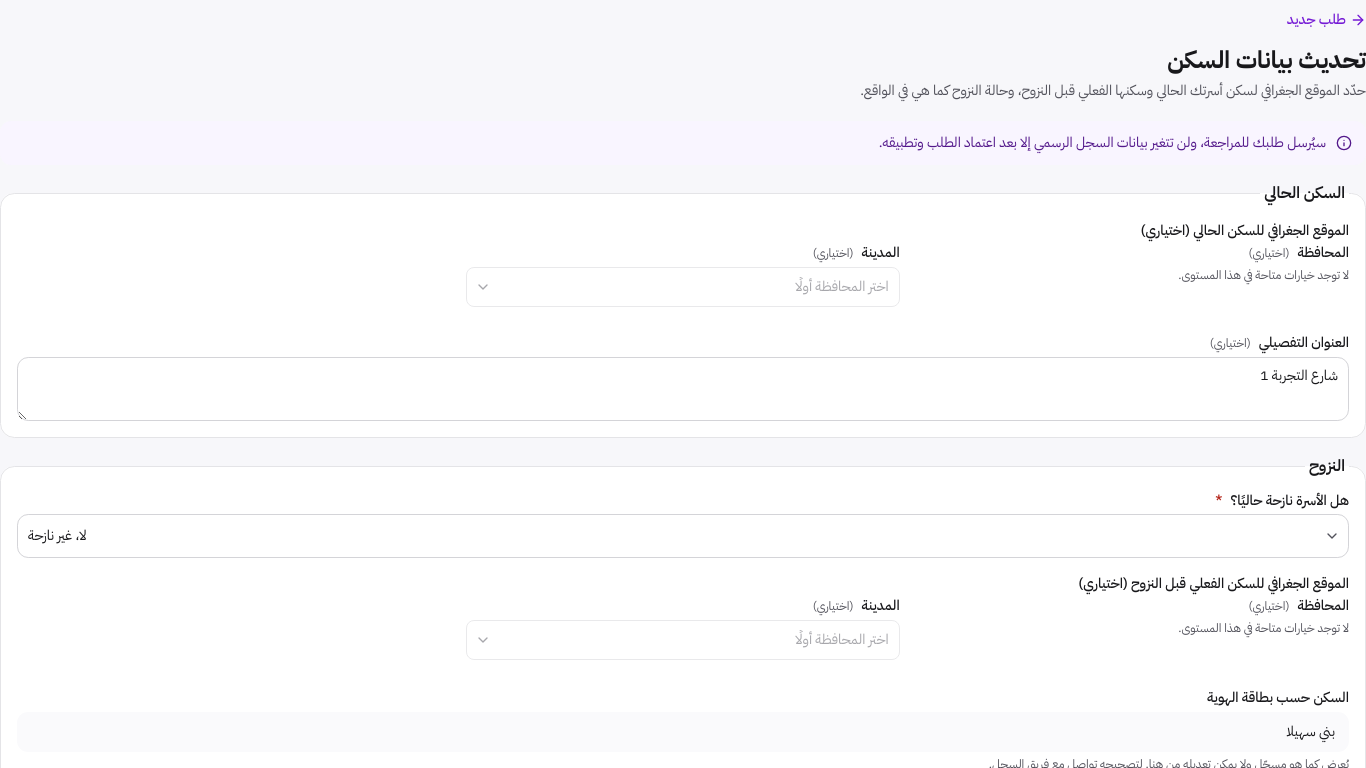
Test case: the residence update form (payload v3) › shows the server's field errors on their fields
This screenshot has width=1366, height=768.
Type "!" into the text box labelled "العنوان التفصيلي (اختياري)" at (683, 389), box [17,357,1349,421]
(page scrolled)
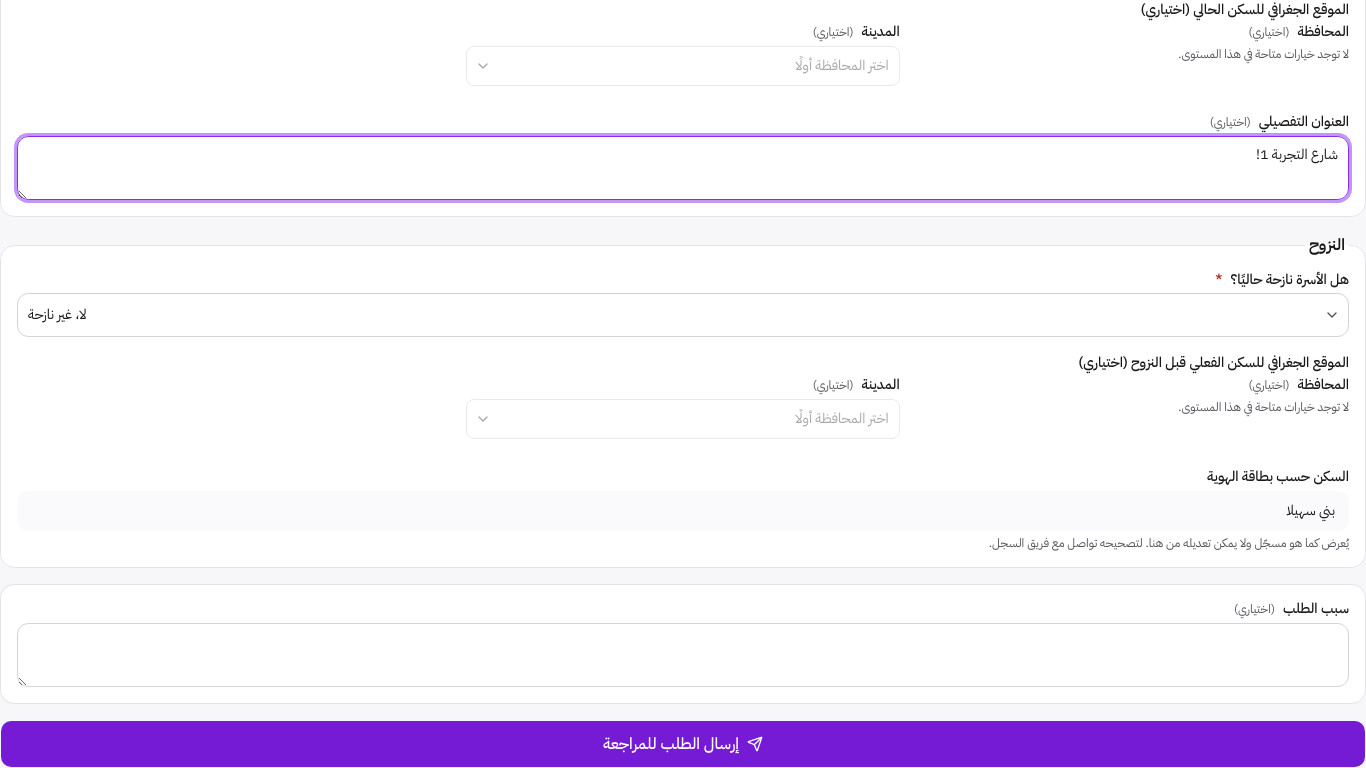
Click the button "إرسال الطلب للمراجعة" at (683, 744), box [0,720,1365,767]
(page scrolled)
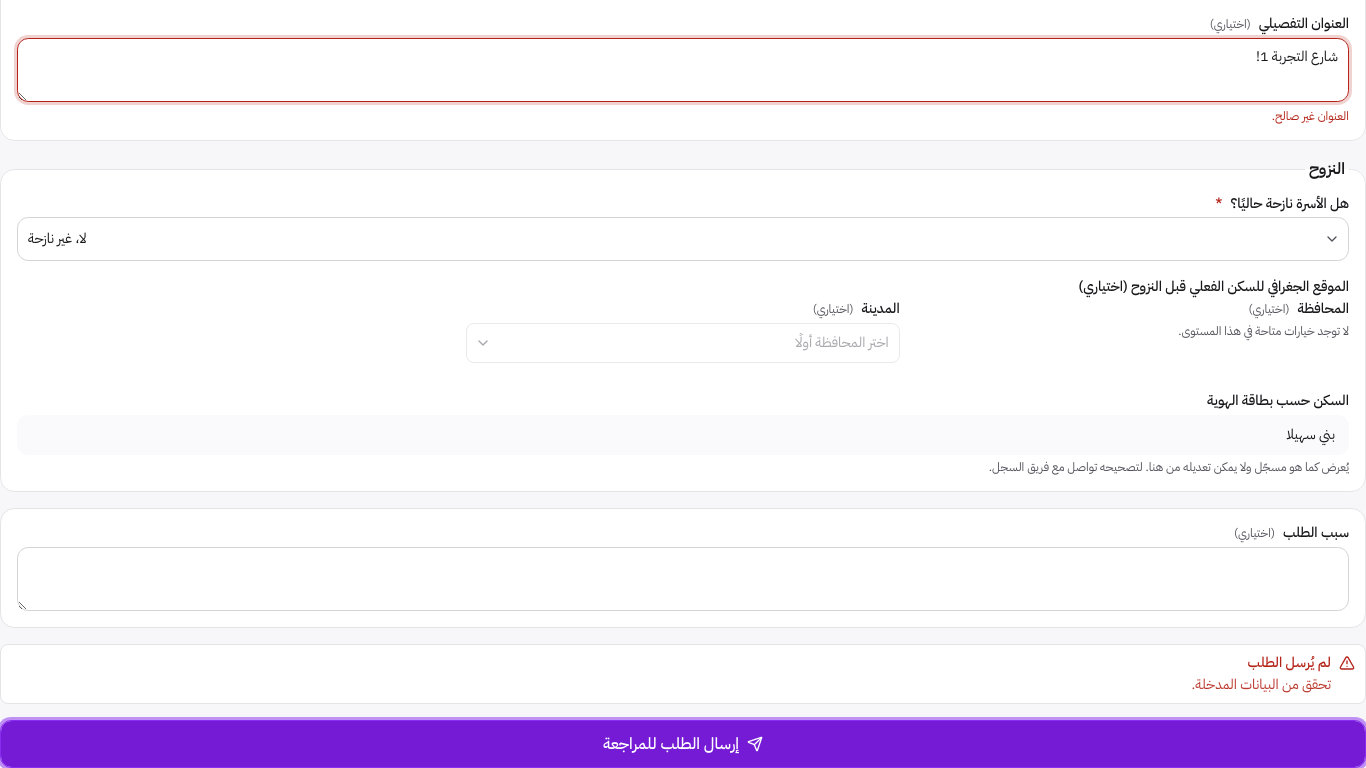
Expected: the text "العنوان غير صالح." is shown, [1272,107,1349,125]
Expected: the message shows "لم يُرسل الطلب", [1248,652,1331,673]
